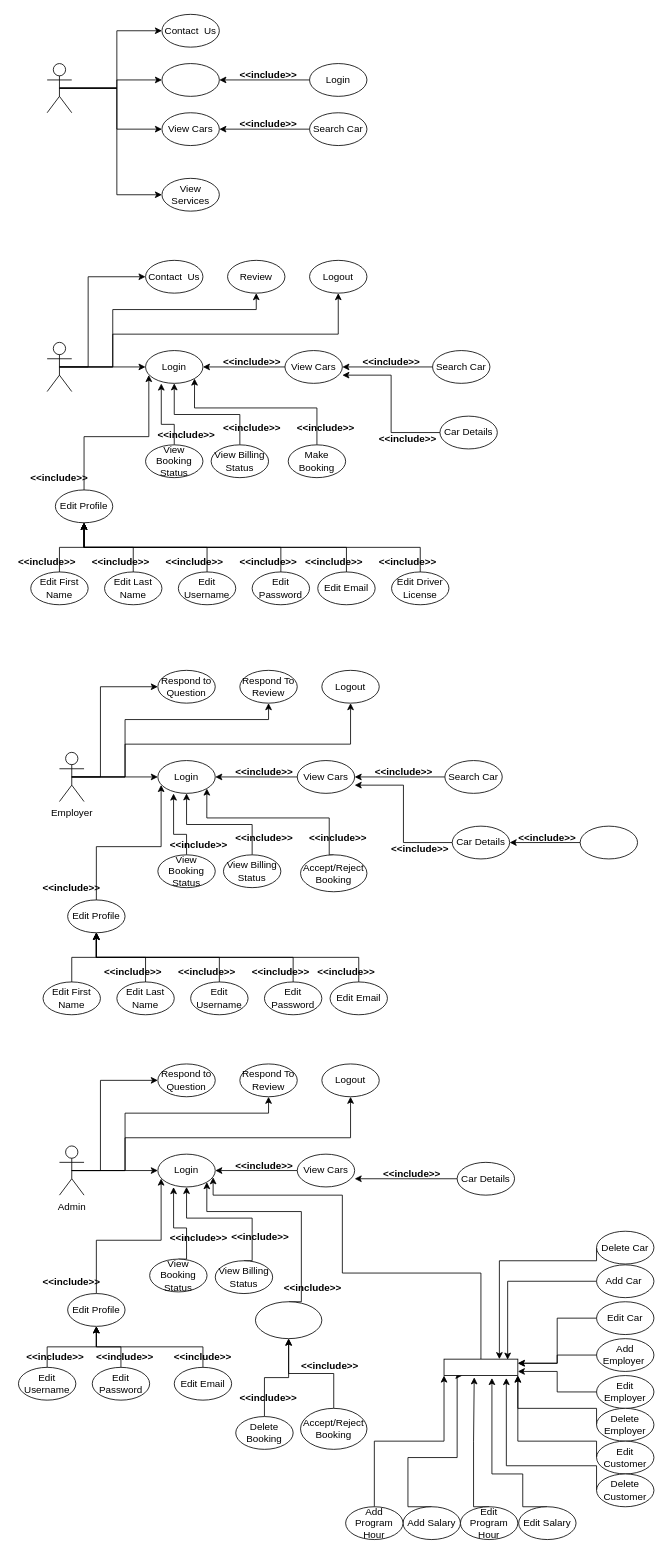
Image size: 668x1555. Some labels were removed from this diagram. The shapes that lost their labels are listed below. From the top down, each one's centre as x and y in pixels, then its label:
At (x=59, y=88): "Guest".
At (x=190, y=79): "Register".
At (x=59, y=367): "Customer".
At (x=608, y=842): "Edit Car Status".
At (x=288, y=1320): "Edit Bookings".
At (x=480, y=1367): "<<Include>>".
